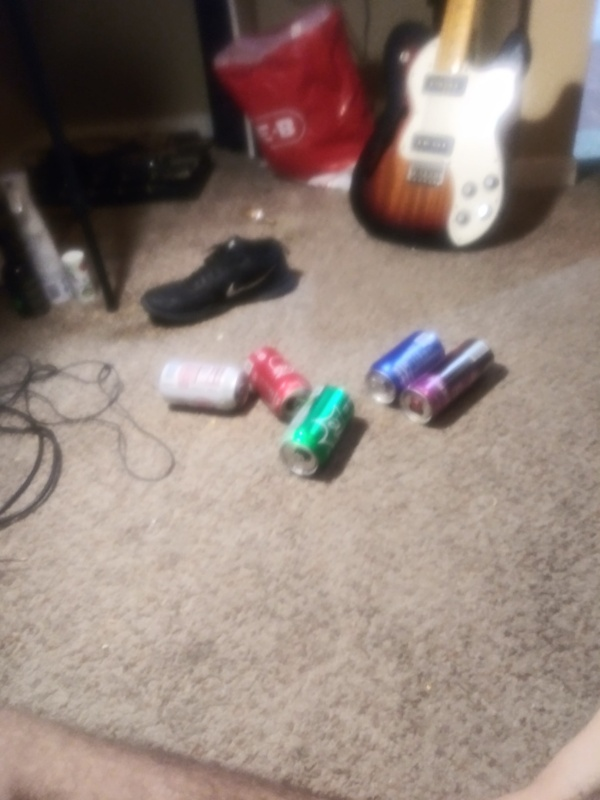can: (397, 336, 498, 427), (274, 381, 357, 483), (363, 327, 449, 405), (241, 342, 313, 424), (153, 360, 254, 417)
